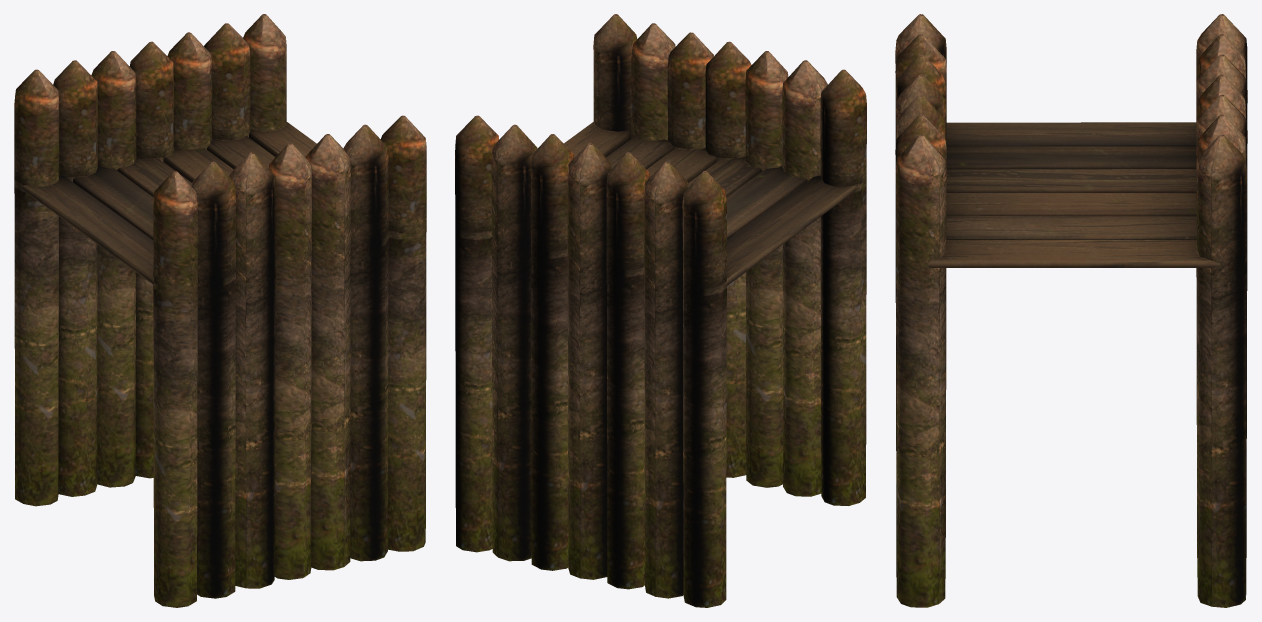
The model's file is Runway (up) v2.FBX.
The picture shows the model from 3 angles, left to right: view 1: azimuth 30°, elevation 25°; view 2: azimuth 150°, elevation 25°; view 3: azimuth 270°, elevation 25°; orthographic projection. The views are drawn at different scales.
Parts seen in each view (by area): view 1: Runway (up); view 2: Runway (up); view 3: Runway (up).
Boxes of the visible parts, left/top/right/bottom form: Runway (up): left=14, top=14, right=426, bottom=607; Runway (up): left=455, top=14, right=866, bottom=607; Runway (up): left=895, top=14, right=1247, bottom=607.
Bounding box in the file's own units: 88.44 × 135 × 93.1.
